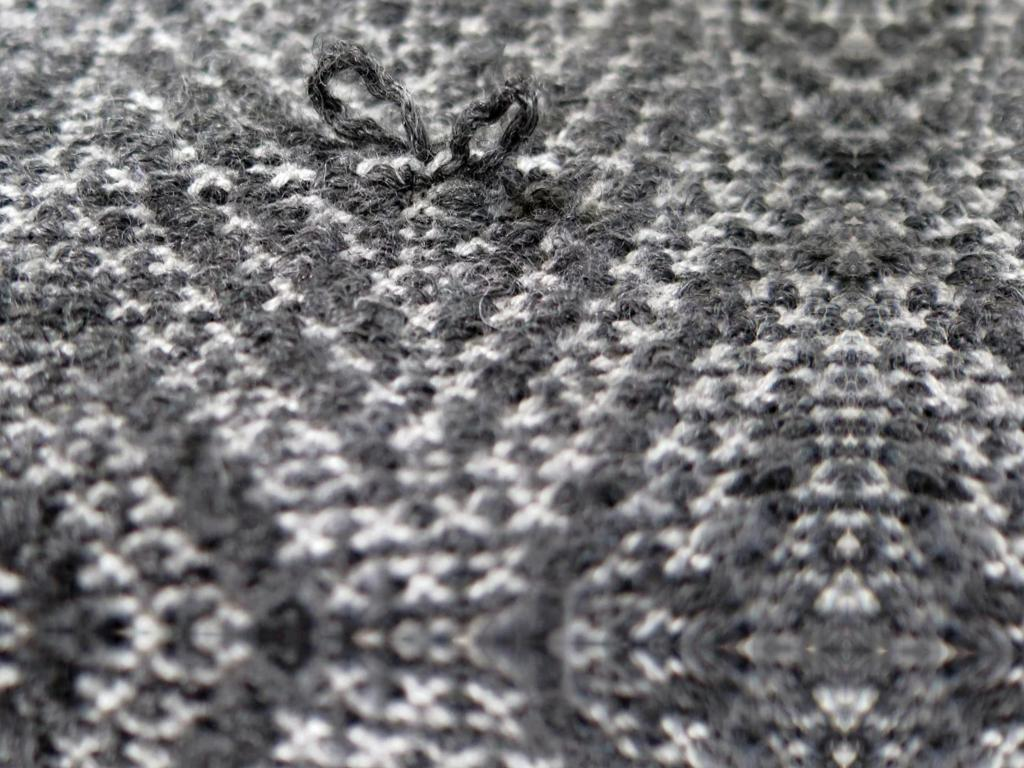snag: (308, 34, 436, 172), (446, 74, 542, 194)
